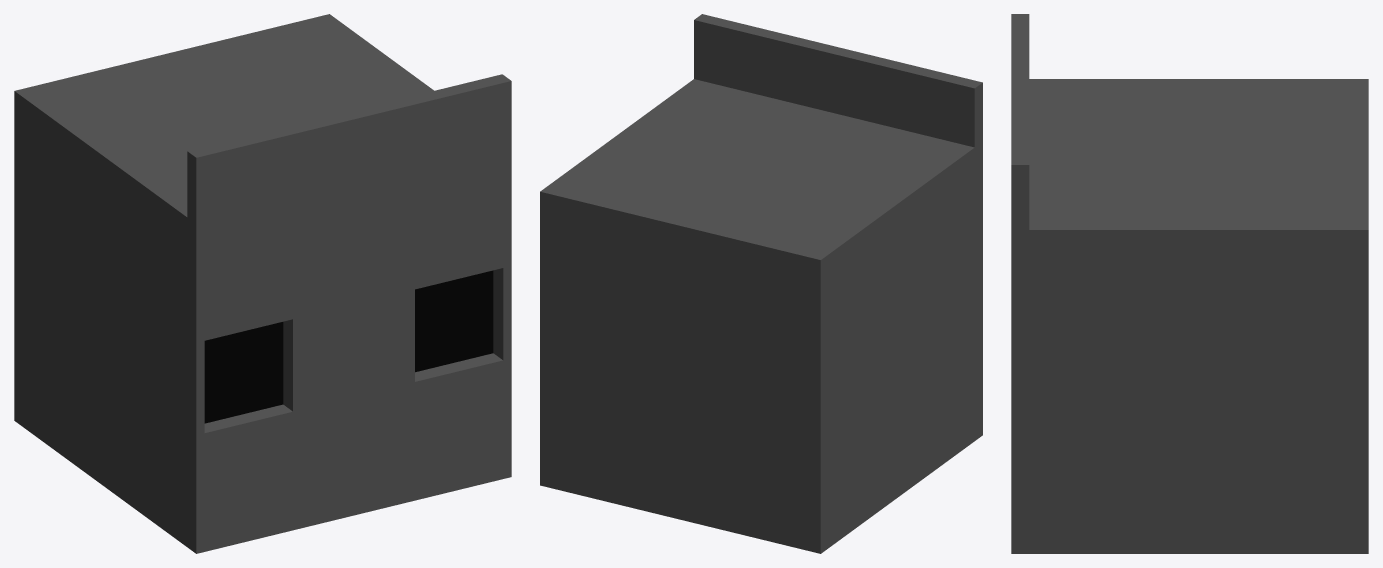
File: petithaut.fbx
3 renders of one model, left to right at view 1: azimuth 30°, elevation 25°; view 2: azimuth 150°, elevation 25°; view 3: azimuth 270°, elevation 25°, orthographic. The views are drawn at different scales.
Visible parts, largest first — view 1: Cube.097; view 2: Cube.097; view 3: Cube.097.
Boxes of the visible parts, x1,y1,x2,y2 form: Cube.097: (14, 14, 511, 553); Cube.097: (540, 14, 982, 553); Cube.097: (1011, 14, 1368, 553).
Bounding box in the file's own units: 2000 × 2402 × 2000.
